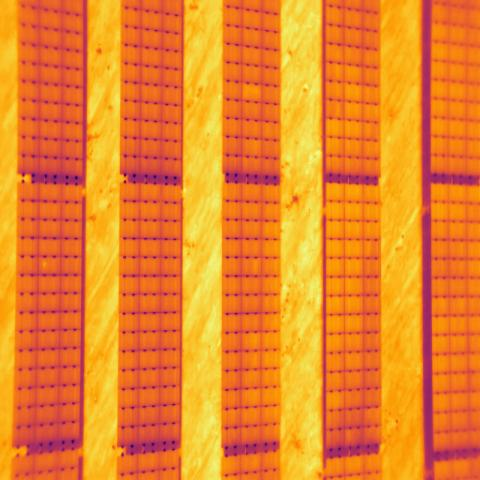fault: (242, 80, 263, 104)
